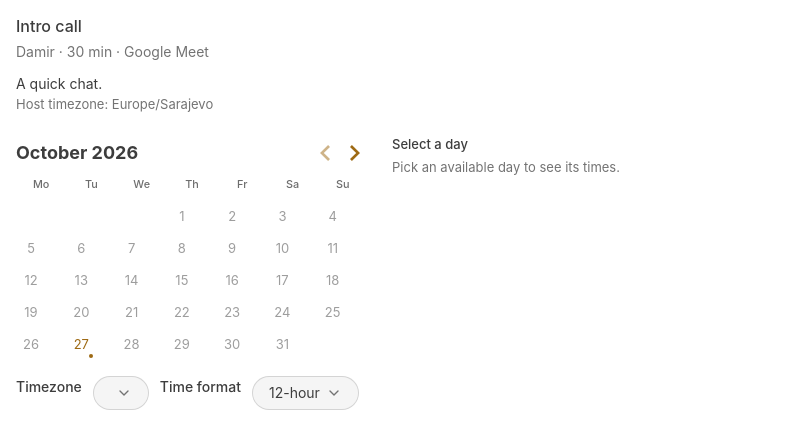
Test: PublicBookingPage — month grid and slots › marks a day with slots available, and selecting a slot only highlights it and reveals the form (nothing is submitted yet)
The width and height of the screenshot is (794, 443).
Check: the heading "Intro call" is shown, box [16,16,82,36]
Step 1. Click the button "27" → (81, 345), box [66,330,96,360]
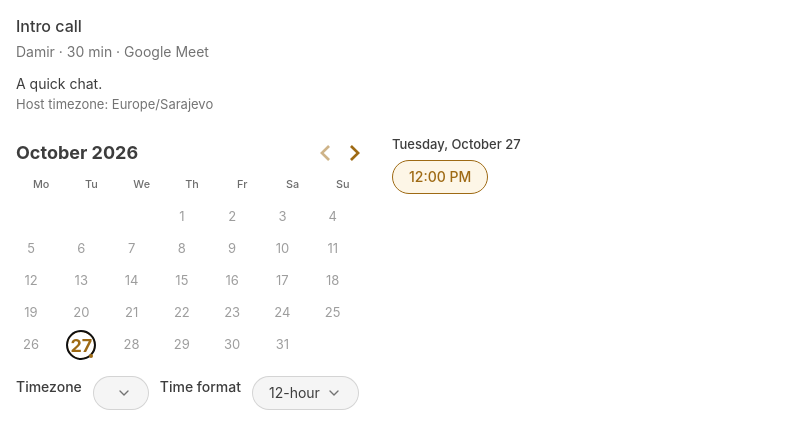
Step 2. Click the button "12:00 PM" → (440, 177), box [392,160,488,194]
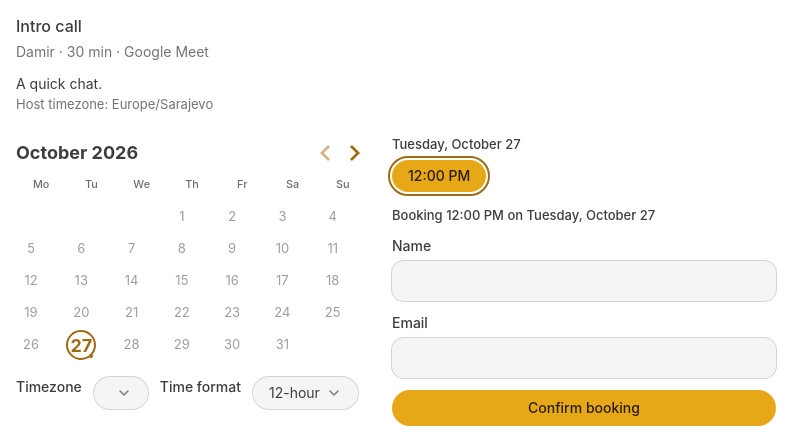
Check: the field labelled "Name" is shown, box [392,261,776,301]
Check: the field labelled "Email" is shown, box [392,338,776,378]
